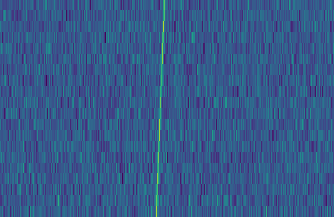signal: (151, 0, 168, 217)
